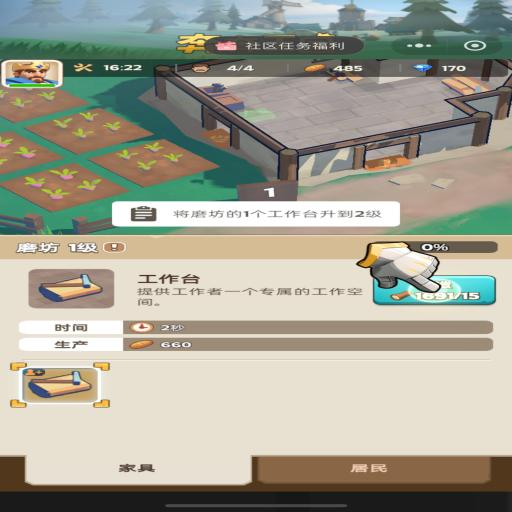newcomer_hand: (352, 241, 436, 293)
